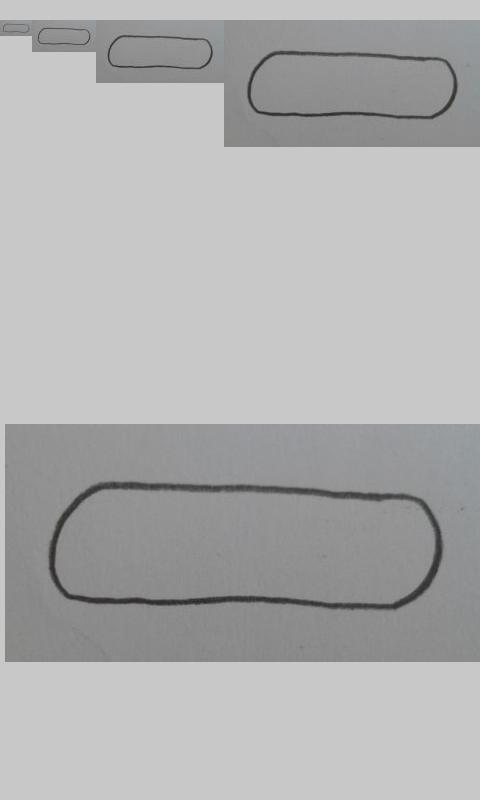chip: (49, 481, 445, 612), (246, 51, 459, 121), (107, 34, 213, 70), (37, 27, 91, 46), (2, 23, 31, 34)
